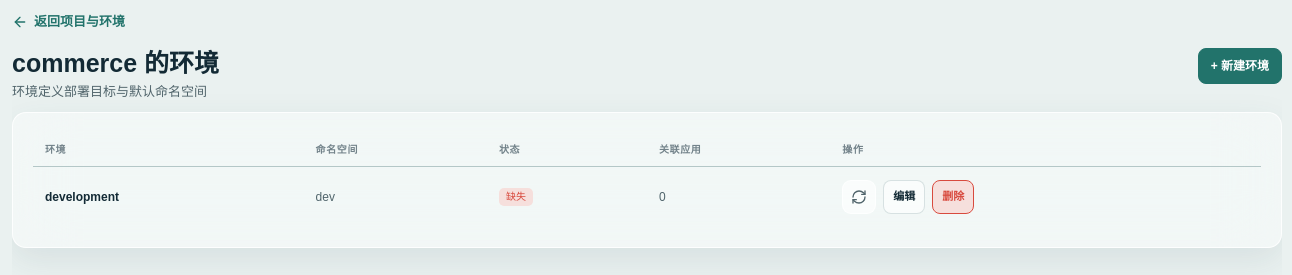
it: ProjectEnvironments view › synchronizes a missing environment namespace
What coordinates should you click on to do the following:
click the button titled "同步命名空间"
I would click on:
 (859, 196)
Its box is [842,180,876,214].
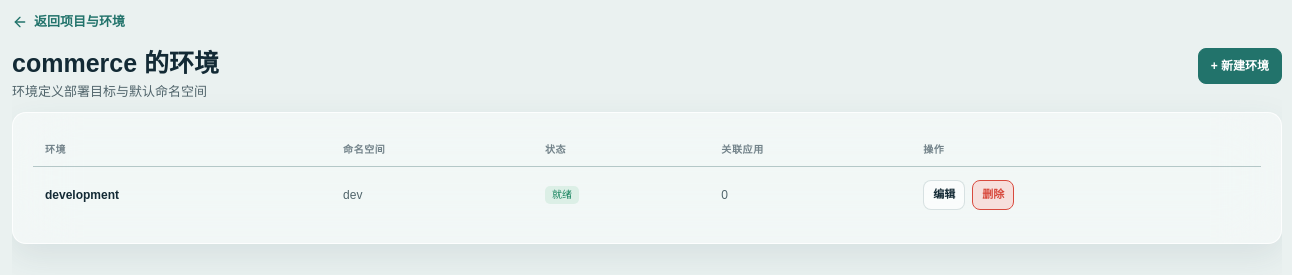
Result: the text "就绪" is shown at [545,186,579,204]
